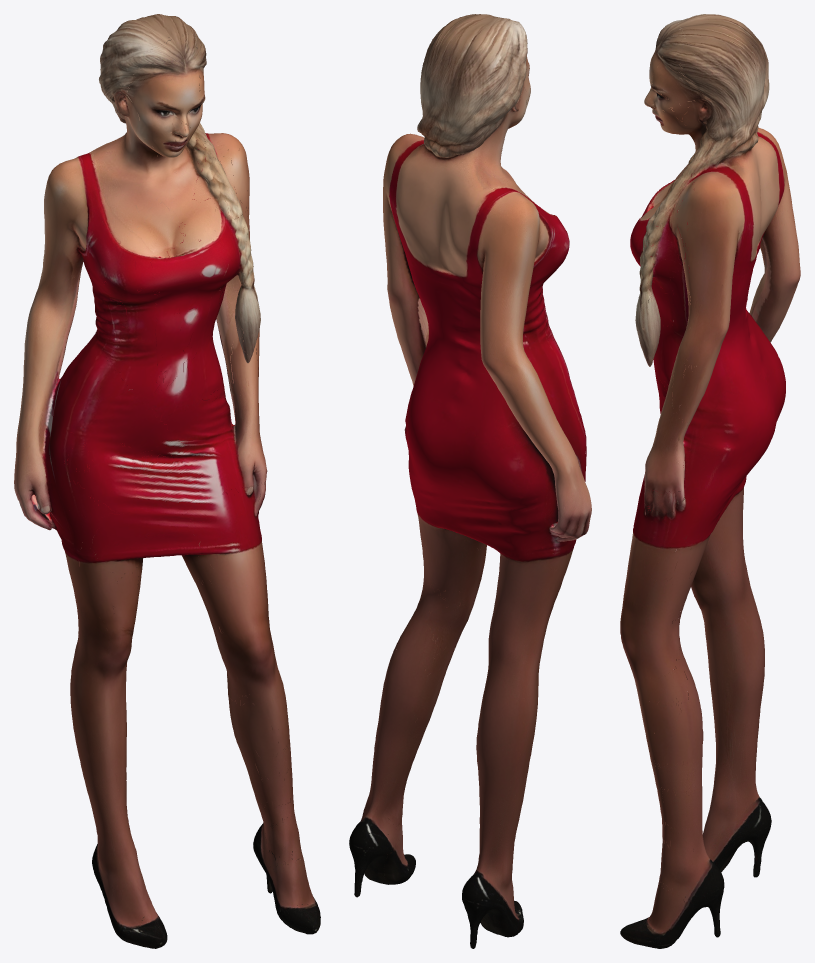
File: crimson.glb
3 renders of one model, left to right at view 1: azimuth 30°, elevation 25°; view 2: azimuth 150°, elevation 25°; view 3: azimuth 270°, elevation 25°, orthographic. The views are drawn at different scales.
Parts seen in each view (by area): view 1: Object_5, Object_6; view 2: Object_5, Object_6; view 3: Object_5, Object_6.
Boxes of the visible parts, x1,y1,x2,y2 form: Object_5: (14,14,320,948); Object_6: (61,26,317,948); Object_5: (349,14,591,948); Object_6: (364,14,586,920); Object_5: (620,14,800,948); Object_6: (643,20,697,947).
Bounding box in the file's own units: 0.5711 × 1.9 × 0.3571.
1 material, 1 textured.
